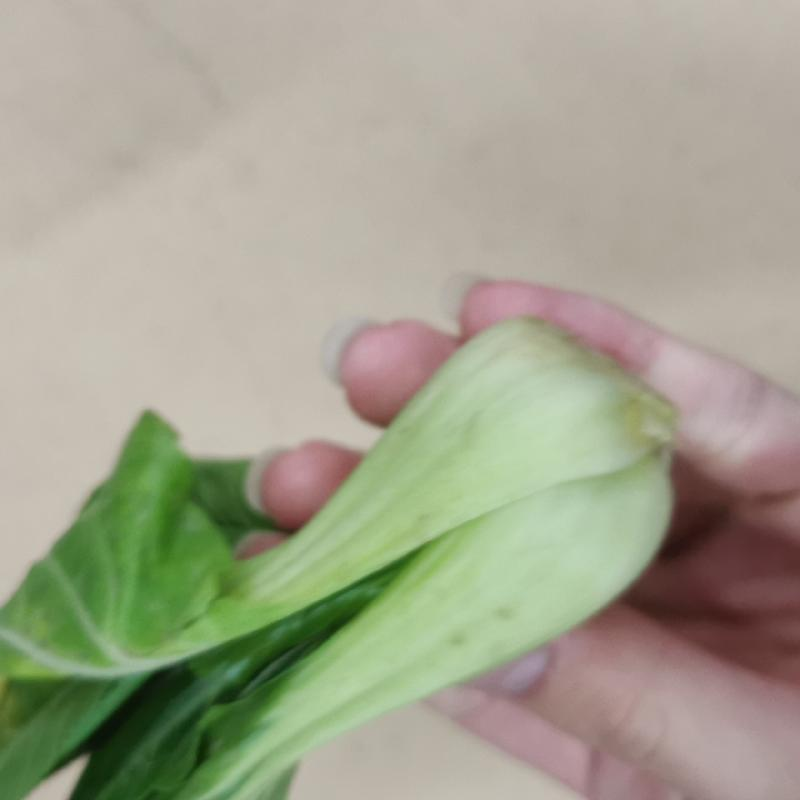green vegatable: (5, 280, 682, 799)
